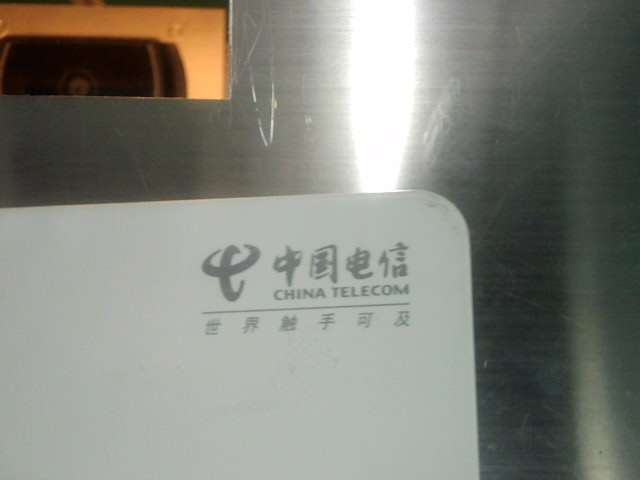AB_ChinaTelecom: (178, 232, 454, 340)
